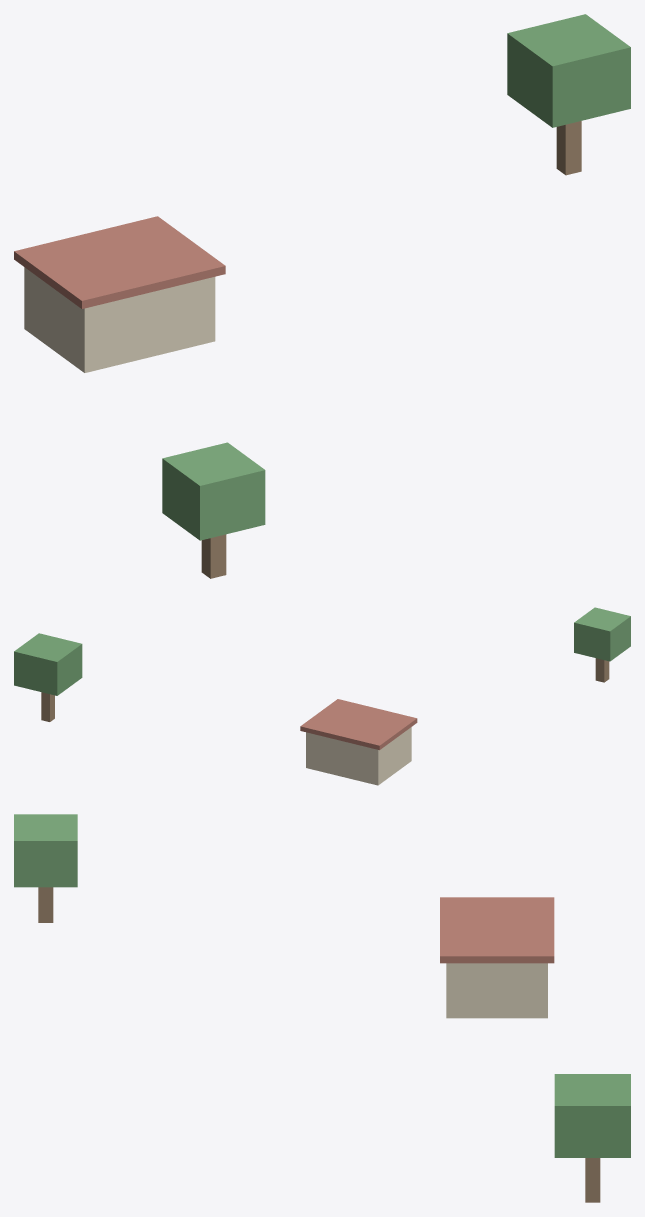
The model's file is region.glb.
3 renders of one model, top to bottom at view 1: azimuth 30°, elevation 25°; view 2: azimuth 150°, elevation 25°; view 3: azimuth 270°, elevation 25°, orthographic. The views are drawn at different scales.
Visible parts, largest first — view 1: maison, toit, feuillage, feuillage2, tronc, tronc2; view 2: maison, toit, feuillage, feuillage2, tronc, tronc2; view 3: toit, feuillage, maison, feuillage2, tronc, tronc2.
Part boxes in pixels (left/top/right/bottom): maison: left=24, top=267, right=215, bottom=372; toit: left=14, top=216, right=225, bottom=308; feuillage: left=507, top=14, right=630, bottom=127; feuillage2: left=162, top=442, right=265, bottom=540; tronc: left=556, top=121, right=581, bottom=175; tronc2: left=201, top=534, right=226, bottom=578; maison: left=306, top=727, right=411, bottom=785; toit: left=300, top=699, right=417, bottom=750; feuillage: left=14, top=633, right=82, bottom=695; feuillage2: left=574, top=607, right=630, bottom=661; tronc: left=41, top=692, right=54, bottom=721; tronc2: left=595, top=658, right=609, bottom=682; toit: left=440, top=897, right=554, bottom=963; feuillage: left=554, top=1074, right=630, bottom=1157; maison: left=446, top=963, right=547, bottom=1018; feuillage2: left=14, top=814, right=77, bottom=887; tronc: left=585, top=1158, right=600, bottom=1202; tronc2: left=38, top=887, right=53, bottom=922.
Size of what is drawn, in the model's own units: 57.5 by 9.5 by 48.5.
